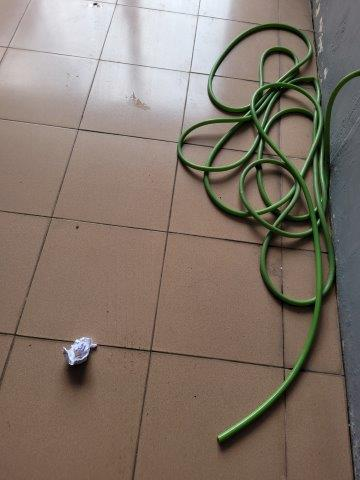kertas: (62, 338, 98, 370)
